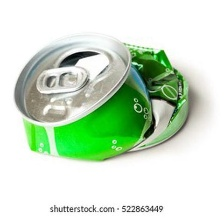can: (9, 27, 199, 167)
